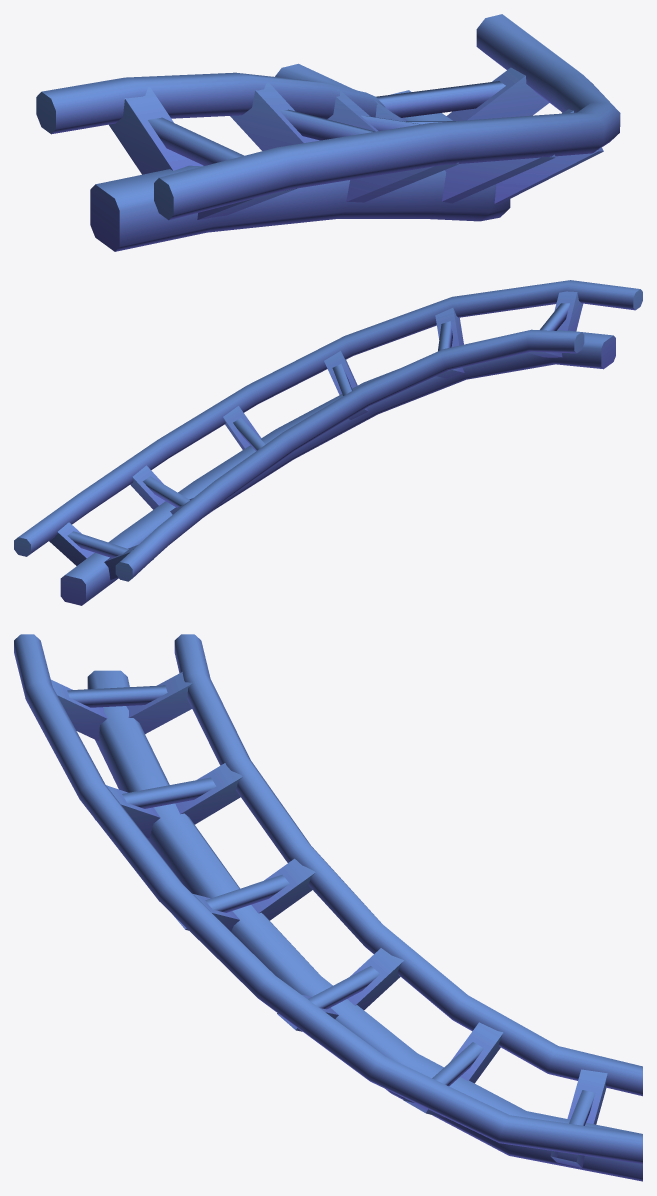
Rendered from coaster-steel-corner-small-ramp.glb.
3 renders of one model, top to bottom at view 1: azimuth 30°, elevation 25°; view 2: azimuth 150°, elevation 25°; view 3: azimuth 270°, elevation 25°, orthographic. The views are drawn at different scales.
Visible parts, largest first — view 1: coaster-steel-corner-small-ramp; view 2: coaster-steel-corner-small-ramp; view 3: coaster-steel-corner-small-ramp.
Boxes of the visible parts, x1,y1,x2,y2 form: coaster-steel-corner-small-ramp: [36, 14, 620, 251]; coaster-steel-corner-small-ramp: [14, 280, 642, 605]; coaster-steel-corner-small-ramp: [14, 634, 642, 1181].
Bounding box in the file's own units: 2.35 × 1.3 × 2.35.
1 material, 1 textured.
